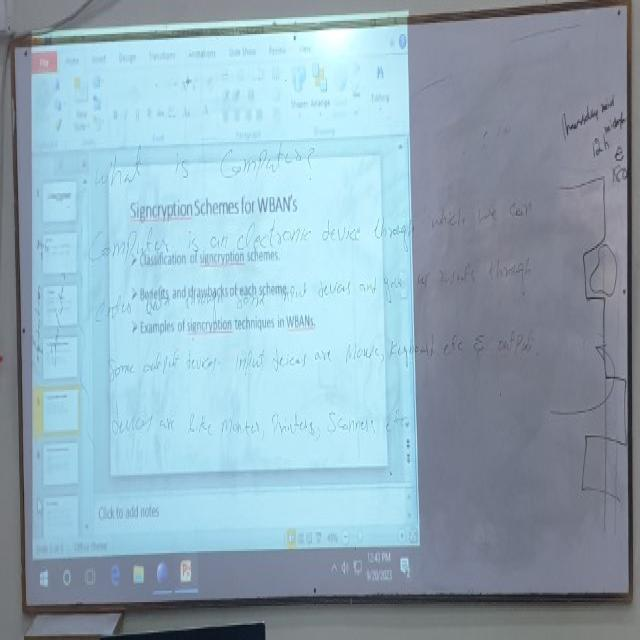Slide: (30, 15, 420, 598)
White-board: (12, 5, 632, 606)
